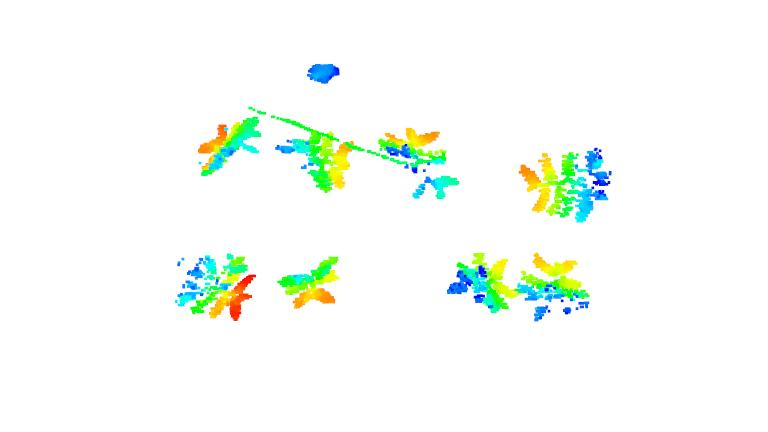chickpea: (520, 147, 616, 226), (379, 126, 458, 201), (173, 255, 258, 323), (517, 251, 594, 325), (277, 128, 354, 190), (449, 251, 515, 313), (194, 117, 261, 177), (277, 254, 342, 312)
